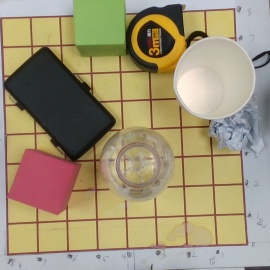bottle: (101, 128, 175, 202)
cup: (172, 36, 256, 120)
